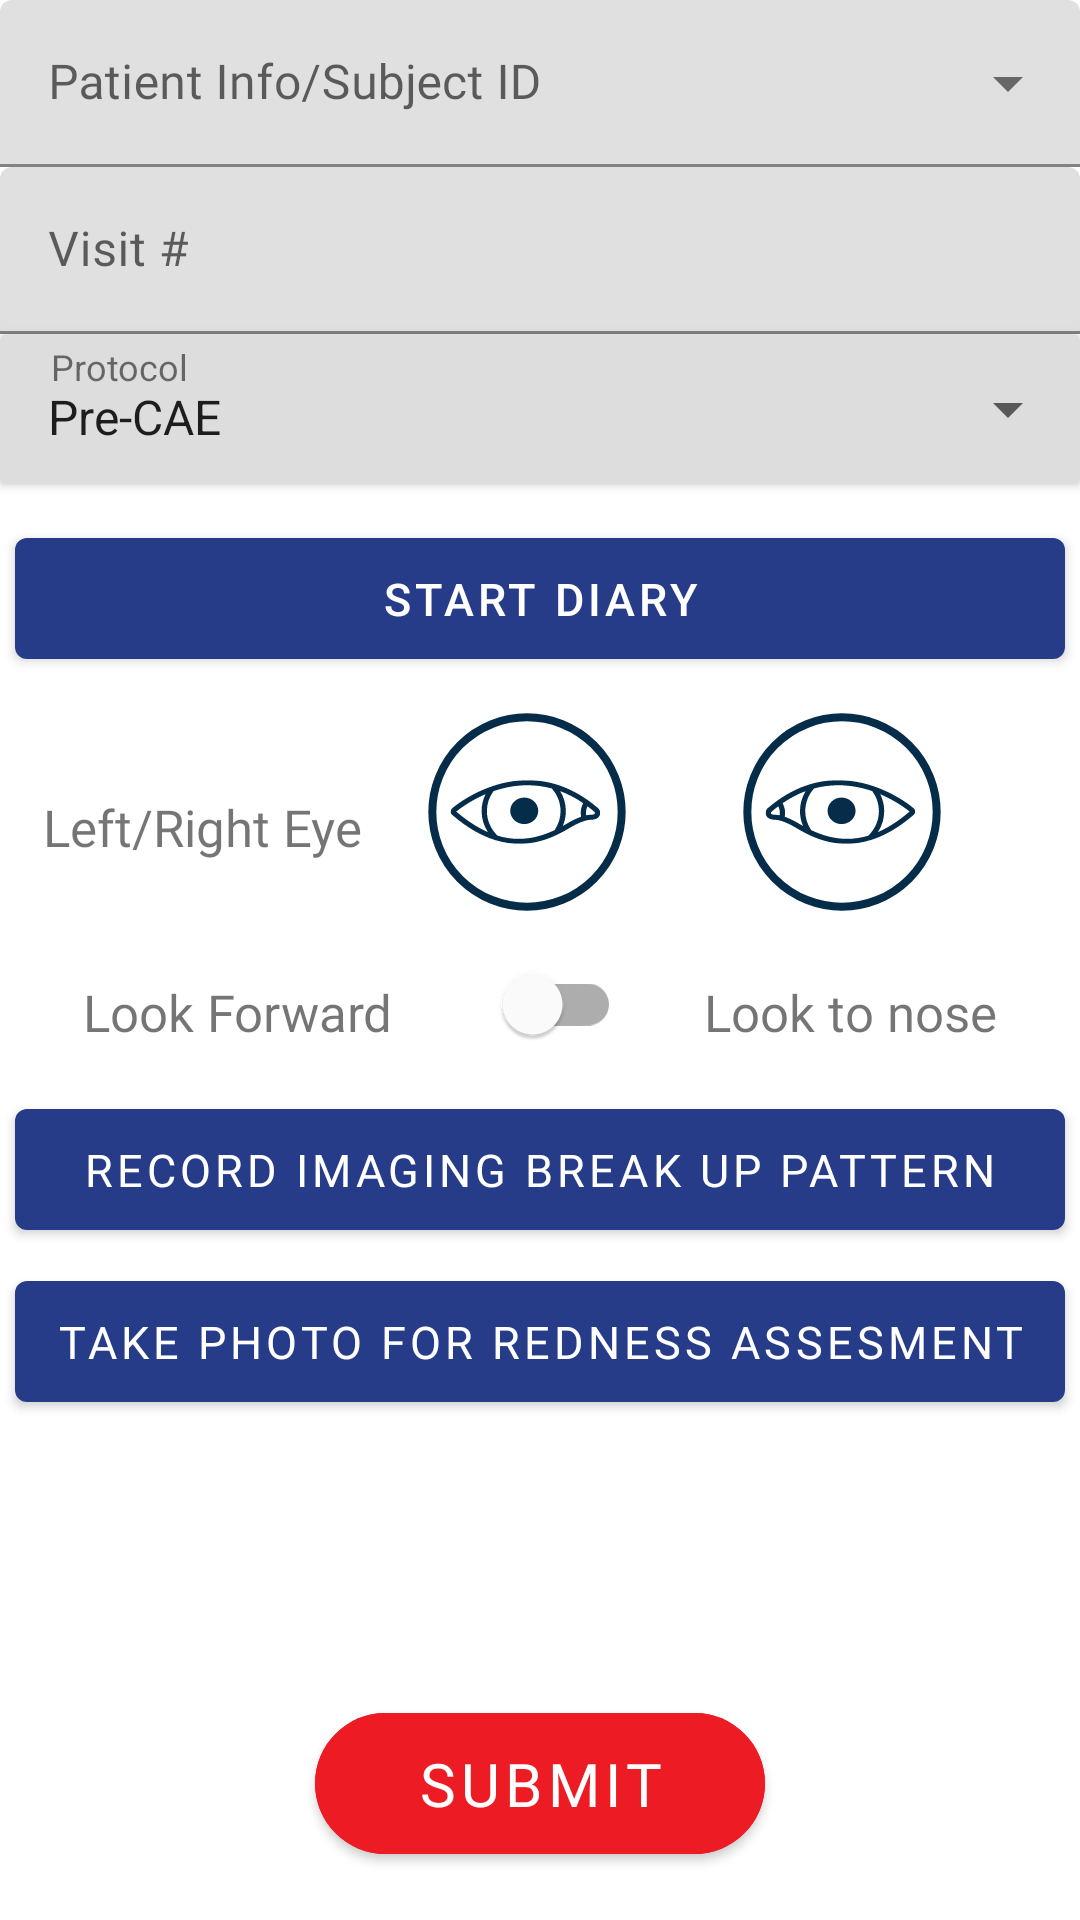

Icons on this 1080 x 1920 Android screen, each with its box as (x1, y1, x2, y2):
selecteye left: (428, 713, 626, 911)
selecteye right: (743, 713, 941, 911)
